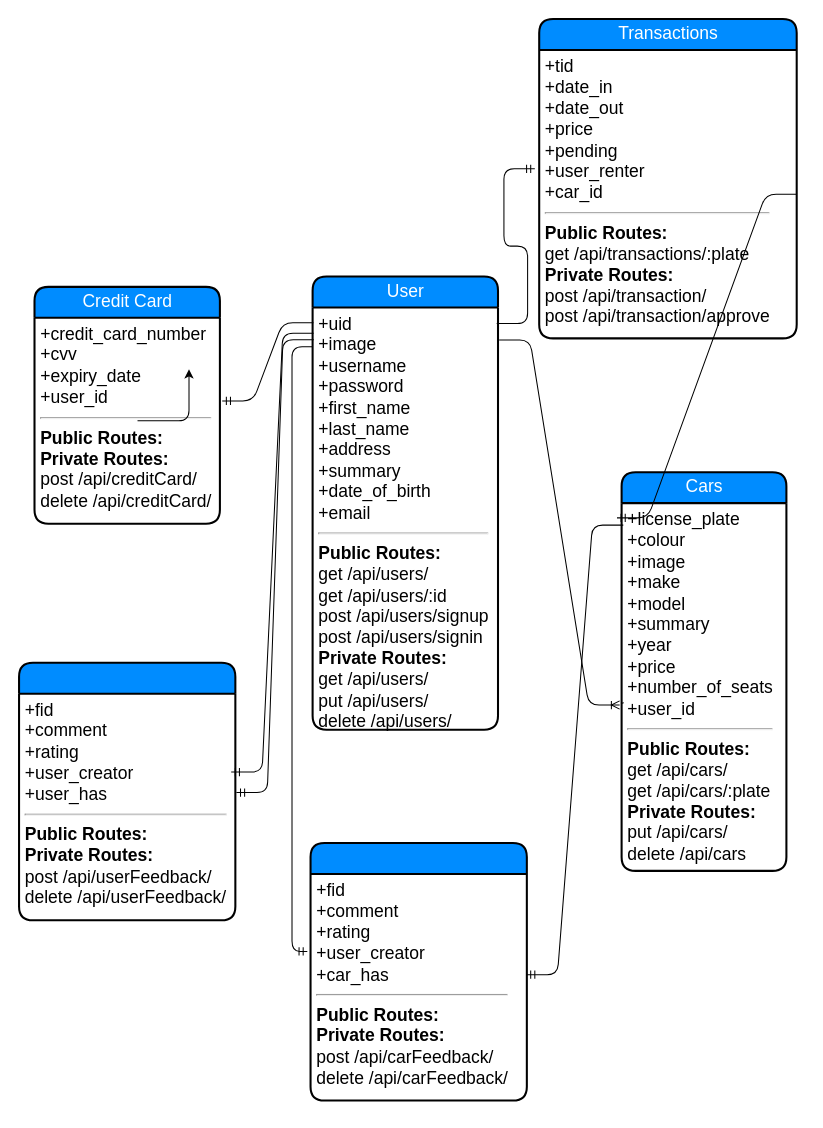
Image size: 823x1128. Some labels were removed from this diagram. Each missing label, with the box of its shape:
Feedback Cars: (309, 842, 527, 1101)
Feedback Users: (18, 661, 236, 921)
